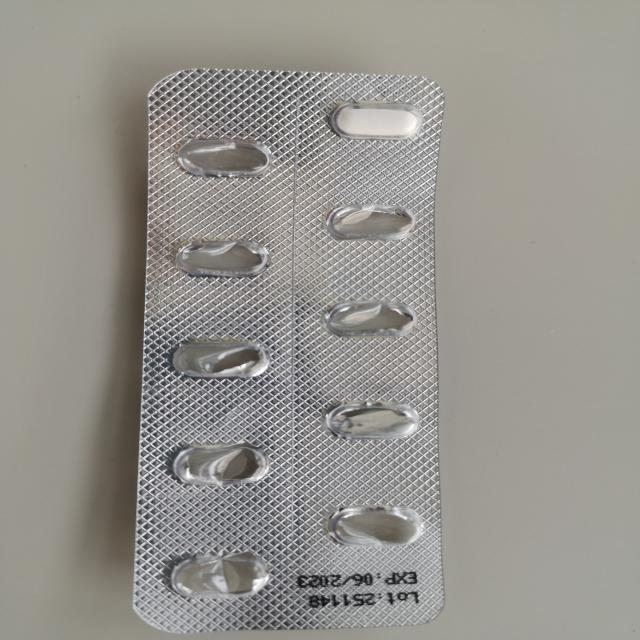Empty: (157, 546, 275, 601), (318, 501, 430, 554), (162, 439, 275, 490), (164, 232, 274, 284), (162, 336, 275, 384), (320, 397, 426, 445), (169, 134, 276, 180), (317, 296, 421, 343), (313, 203, 420, 244)
Pill: (326, 102, 430, 144)
